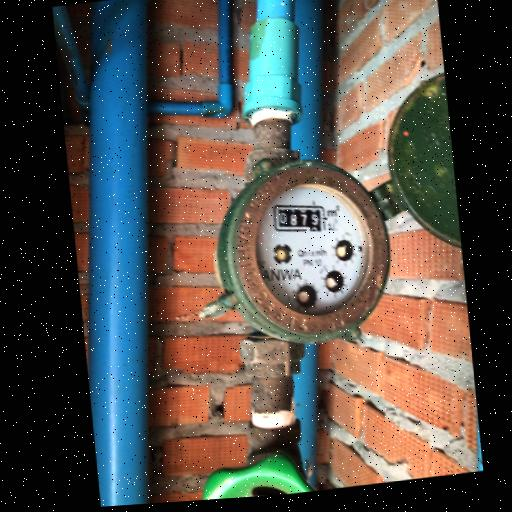0: (277, 207, 290, 228)
7: (297, 209, 311, 228)
8: (287, 207, 300, 228)
9: (308, 208, 323, 233)
border_water_meter_number: (269, 198, 328, 238)
